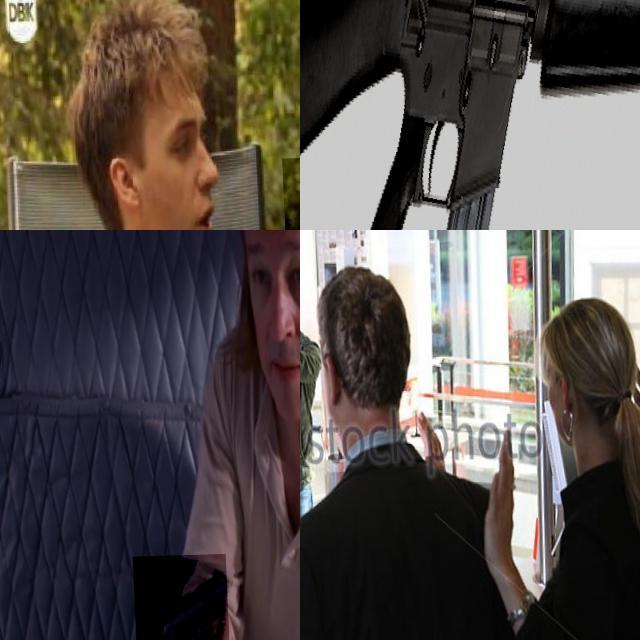gun-knife-thesis - v11 Yolov5 augmented: (300, 0, 640, 230), (128, 556, 227, 640), (300, 277, 316, 331)
